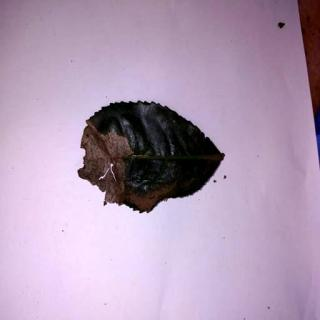Anthracnose: (82, 99, 222, 217)
